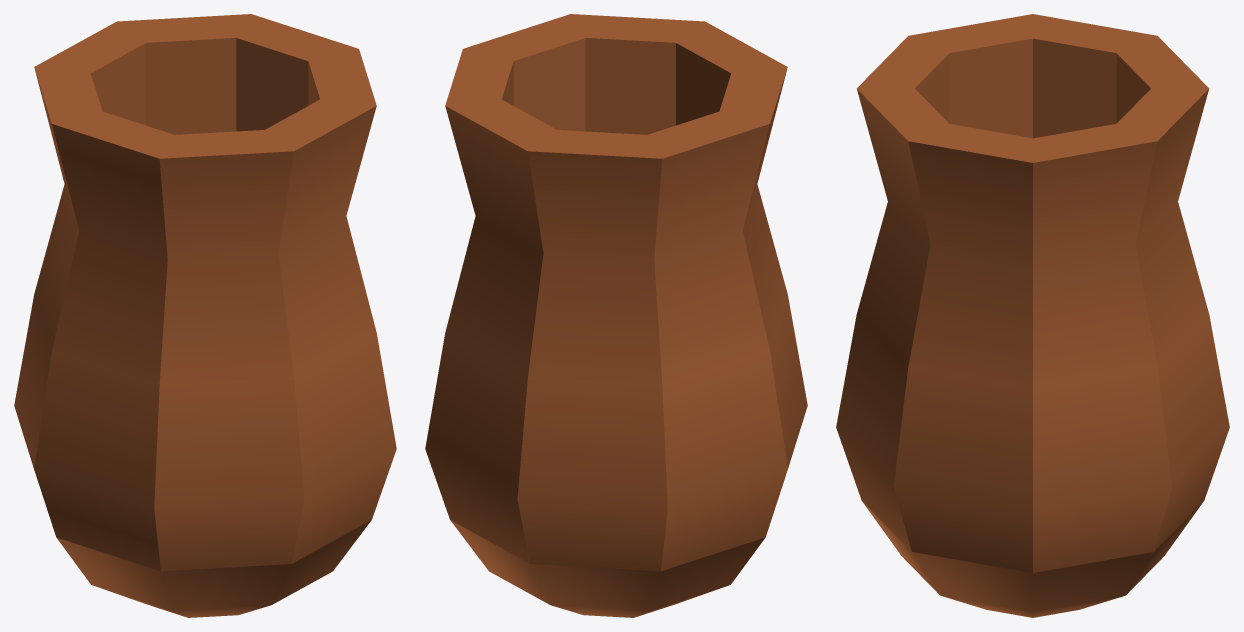
The model's file is pot2.gltf.
3 renders of one model, left to right at view 1: azimuth 30°, elevation 25°; view 2: azimuth 150°, elevation 25°; view 3: azimuth 270°, elevation 25°, orthographic.
Visible parts, largest first — view 1: pot2; view 2: pot2; view 3: pot2.
Boxes of the visible parts, x1,y1,x2,y2 form: pot2: (14,14,396,617); pot2: (425,14,807,617); pot2: (836,14,1229,617).
Size of the model in its own units: 1.34 by 1.88 by 1.34.
